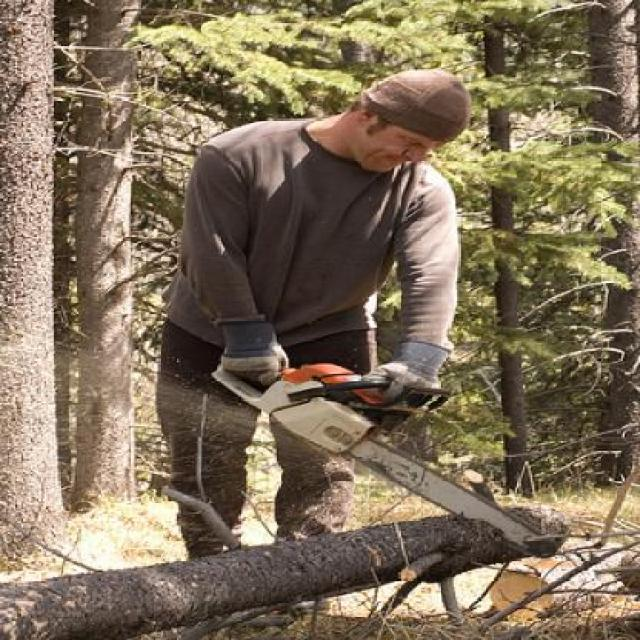Chainsaw: (213, 364, 558, 558)
